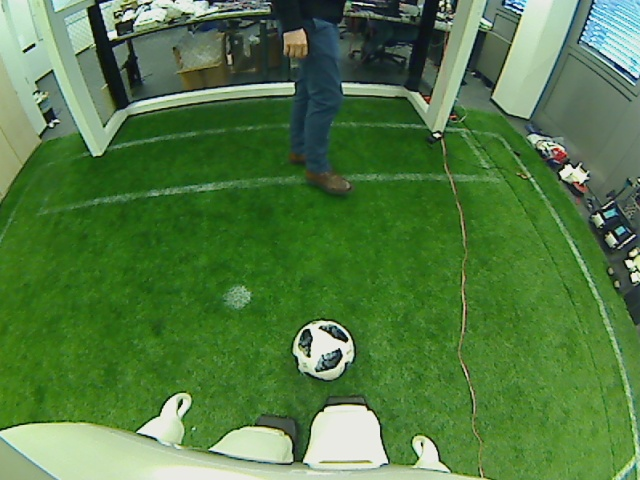ball: (290, 317, 355, 382)
